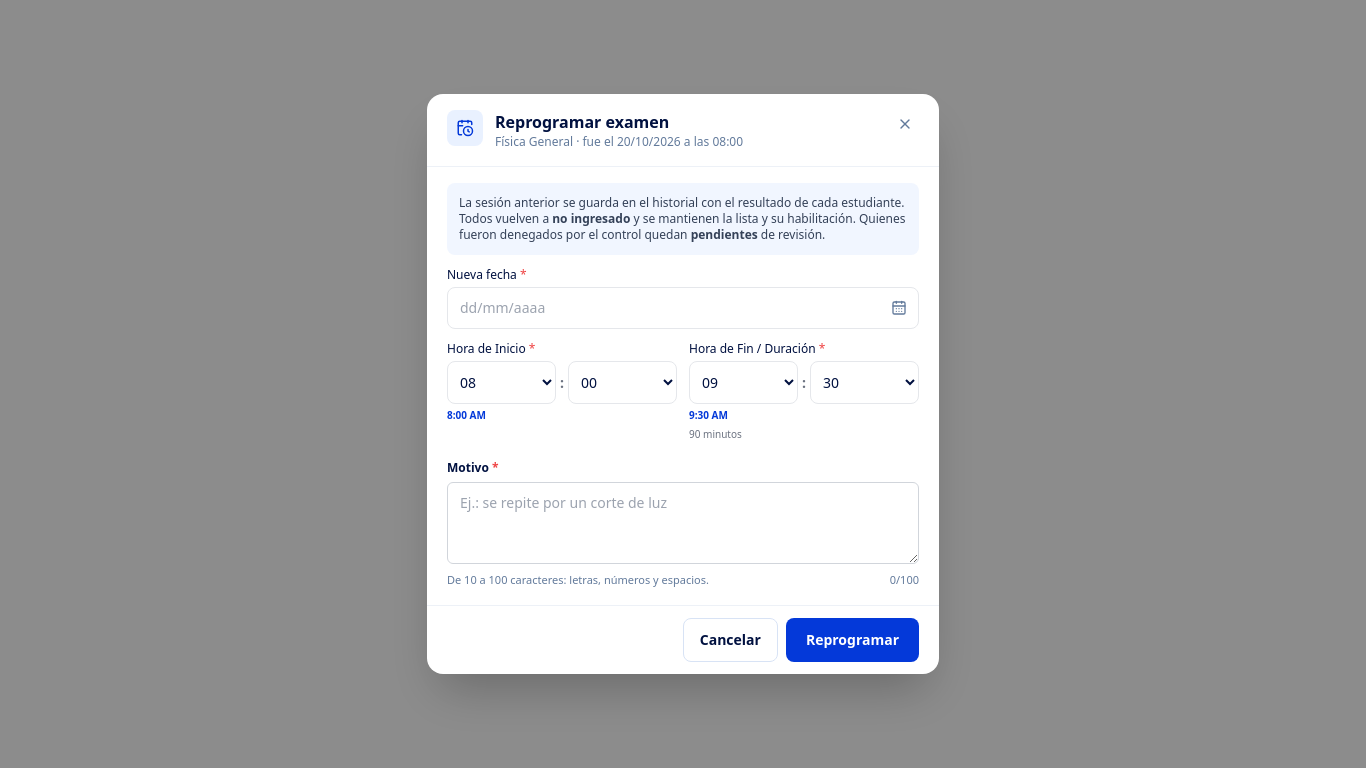
Reprogramar examen › la fecha se escribe y se muestra como dd/mm/aaaa, y no acepta fechas pasadas ni inexistentes
Type "31022099" into the field labelled "Nueva fecha" at (683, 308), box [447,287,919,329]
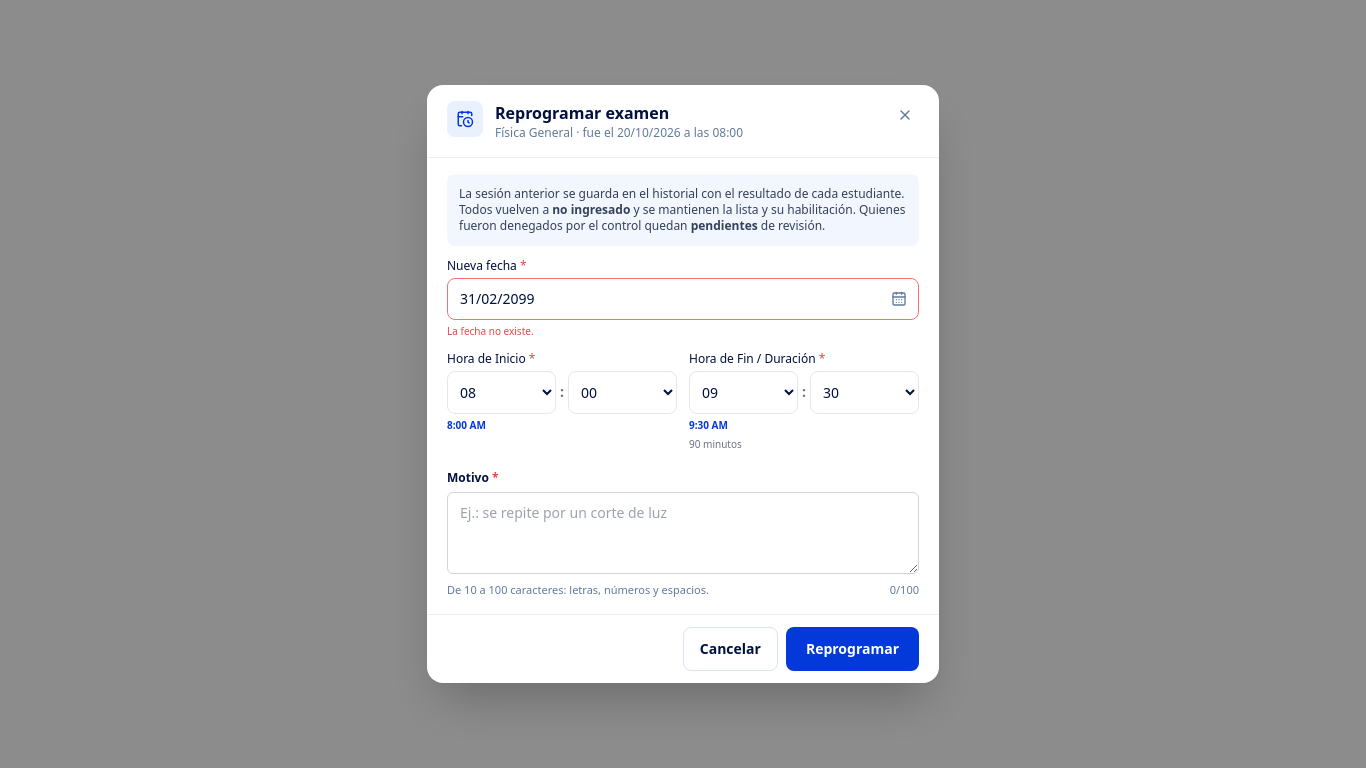
Result: the field labelled "Nueva fecha" holds "31/02/2099"
Result: the text "La fecha no existe." is shown at [447,324,534,338]
Replace the text in the field labelled "Nueva fecha" with "01/01/2020" at (683, 299), box [447,278,919,320]
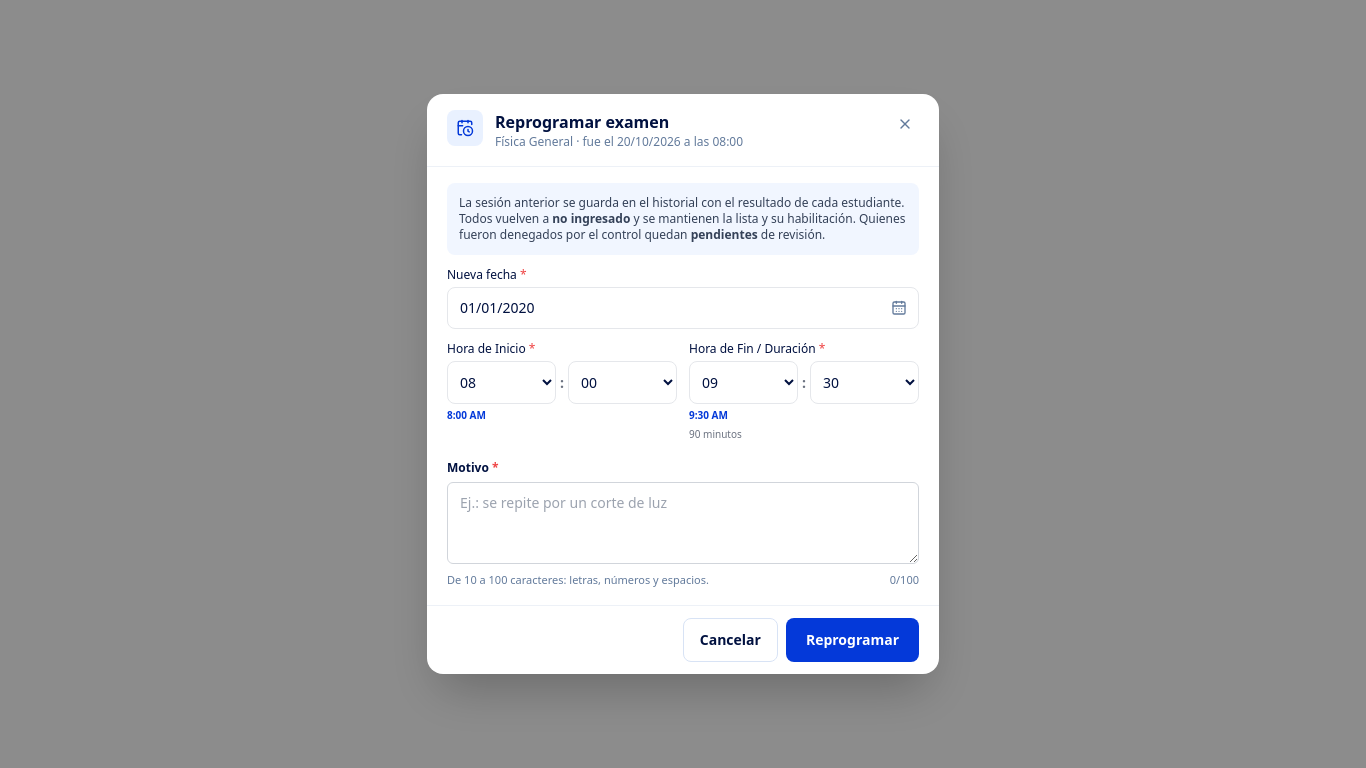
Type "Se repite el examen" into the text box labelled "Motivo *" at (683, 523), box [447,482,919,564]
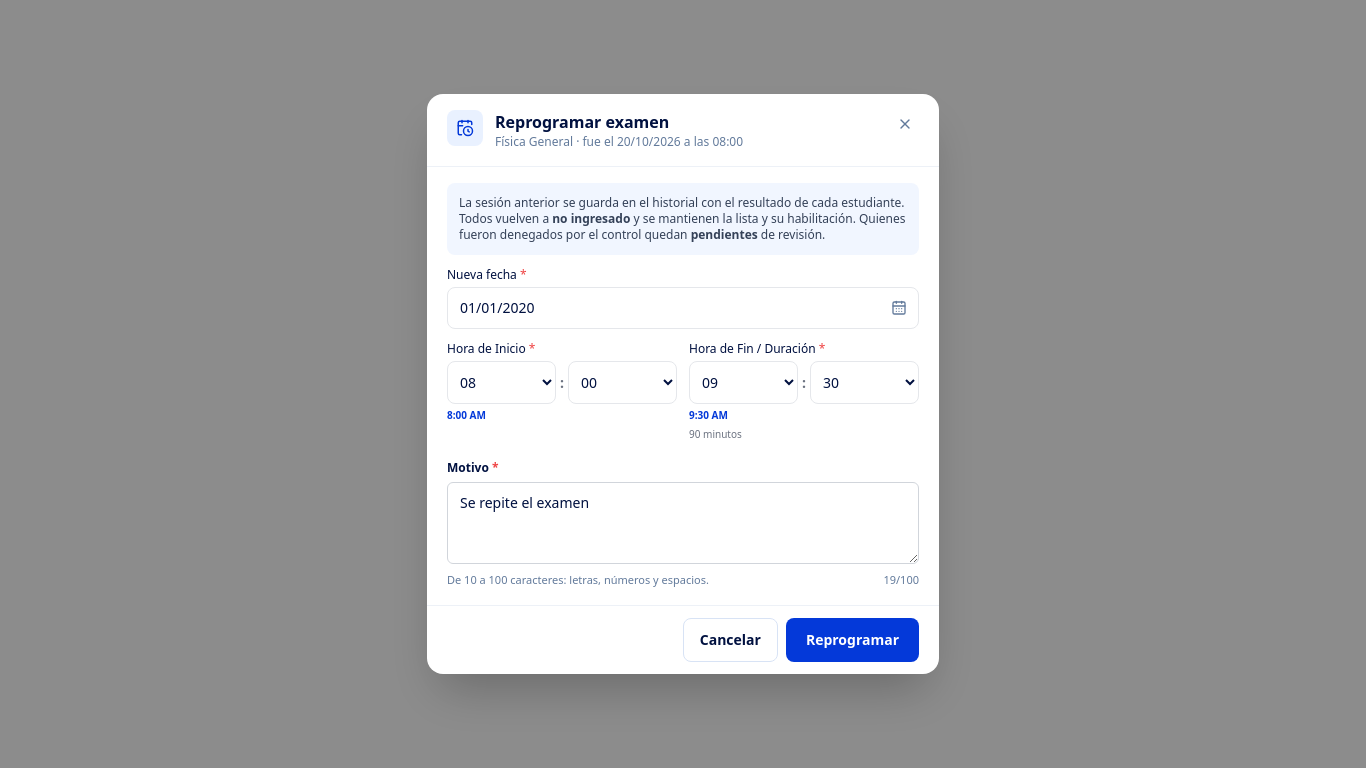
Click the button "Reprogramar" at (852, 640), box [786,618,919,662]
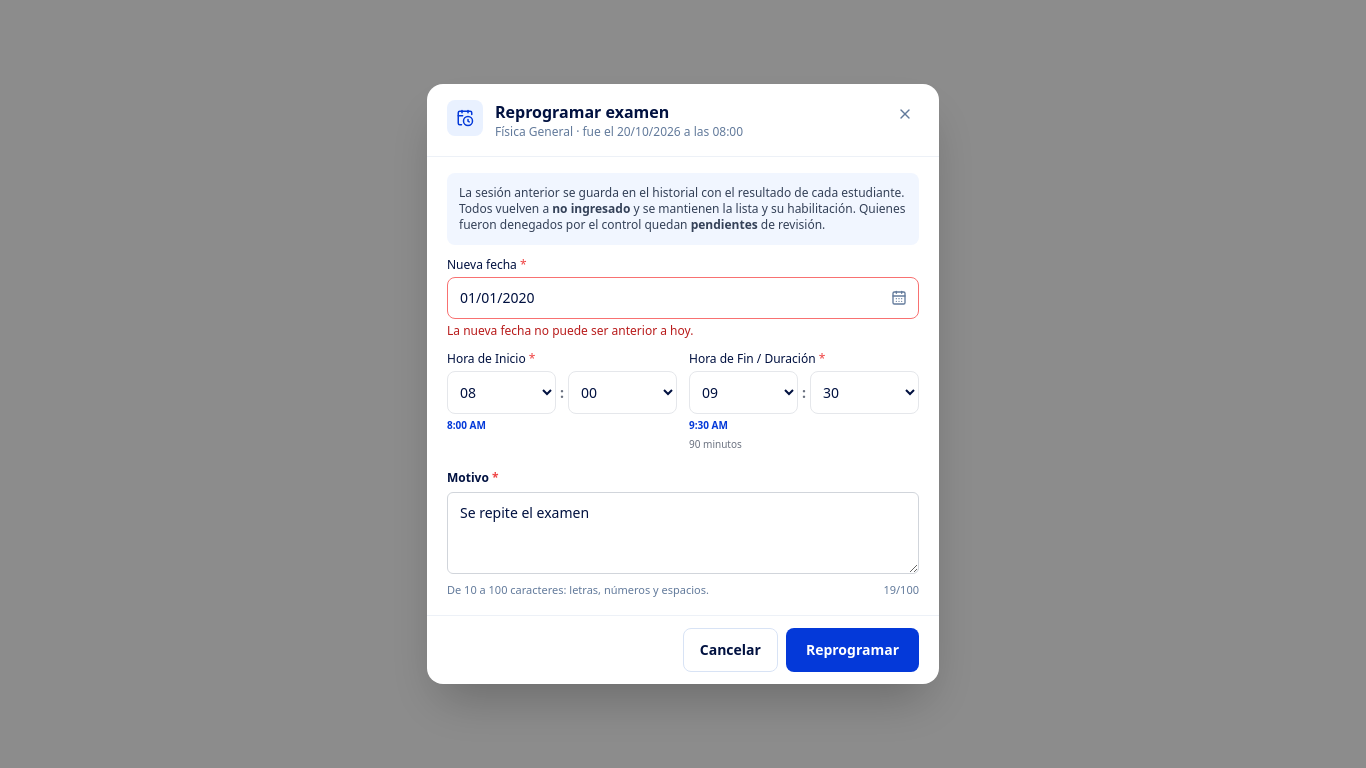
Result: the message shows "no puede ser anterior a hoy" at [447,322,693,339]
